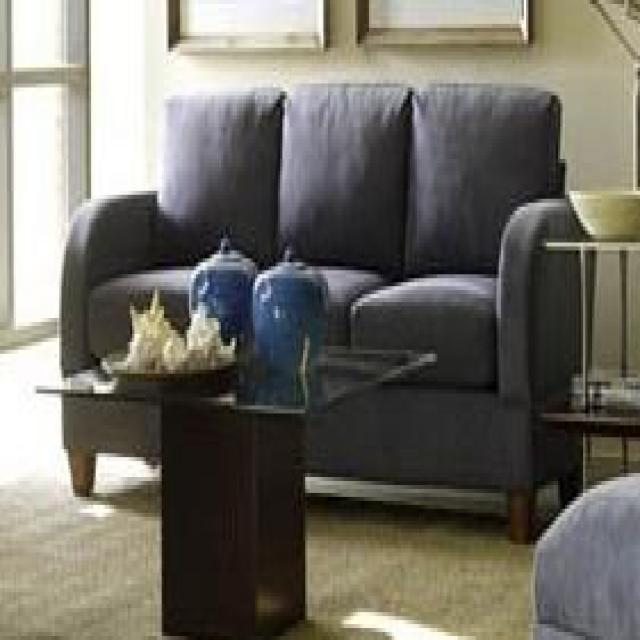sofa: (58, 80, 598, 548)
